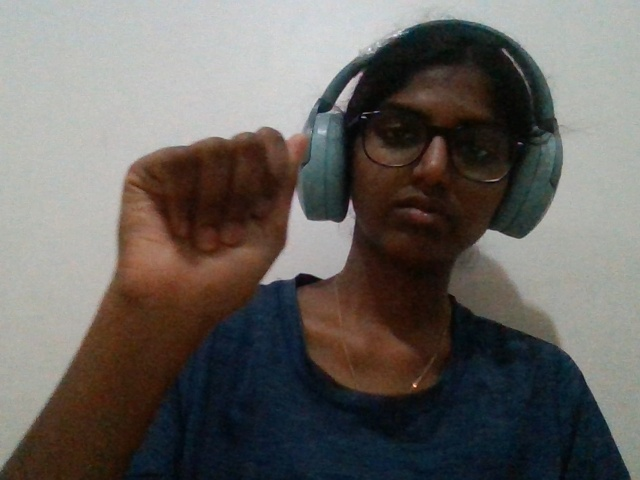A: (90, 115, 317, 353)
